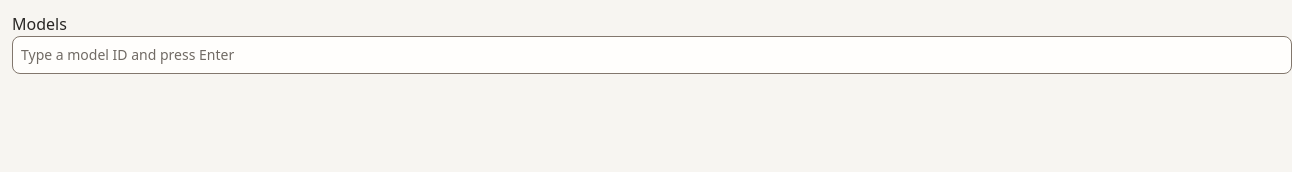
it: TagInput › turns Enter into a tag without submitting the form, and clears the field
This screenshot has width=1292, height=172.
Step 1. Type "gpt-x" into the field labelled "Models" → (652, 55), box x1=21 y1=43 x2=1283 y2=67
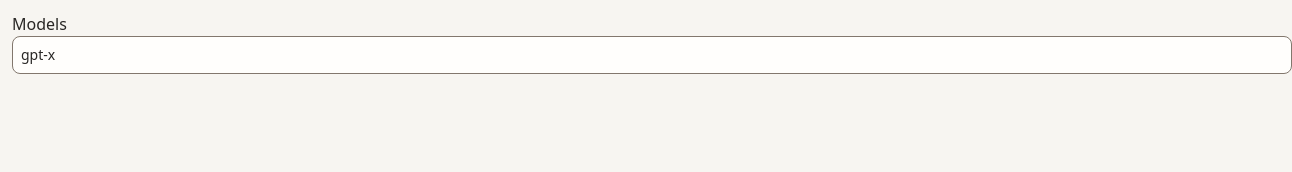
Step 2. Press Enter in the field labelled "Models", box x1=21 y1=43 x2=1283 y2=67
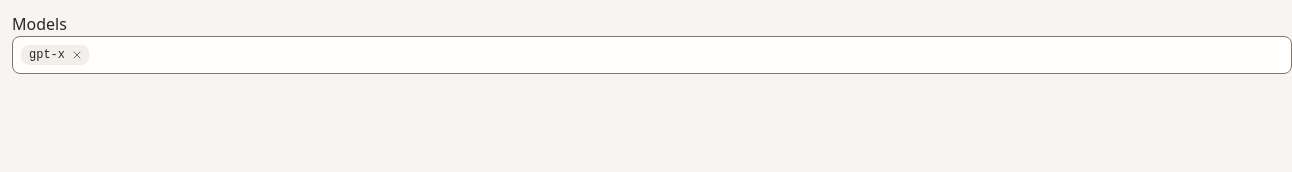
Check: the field labelled "Models" is empty, box x1=95 y1=43 x2=1283 y2=67
Check: the text "gpt-x" is shown, box x1=29 y1=47 x2=65 y2=63
